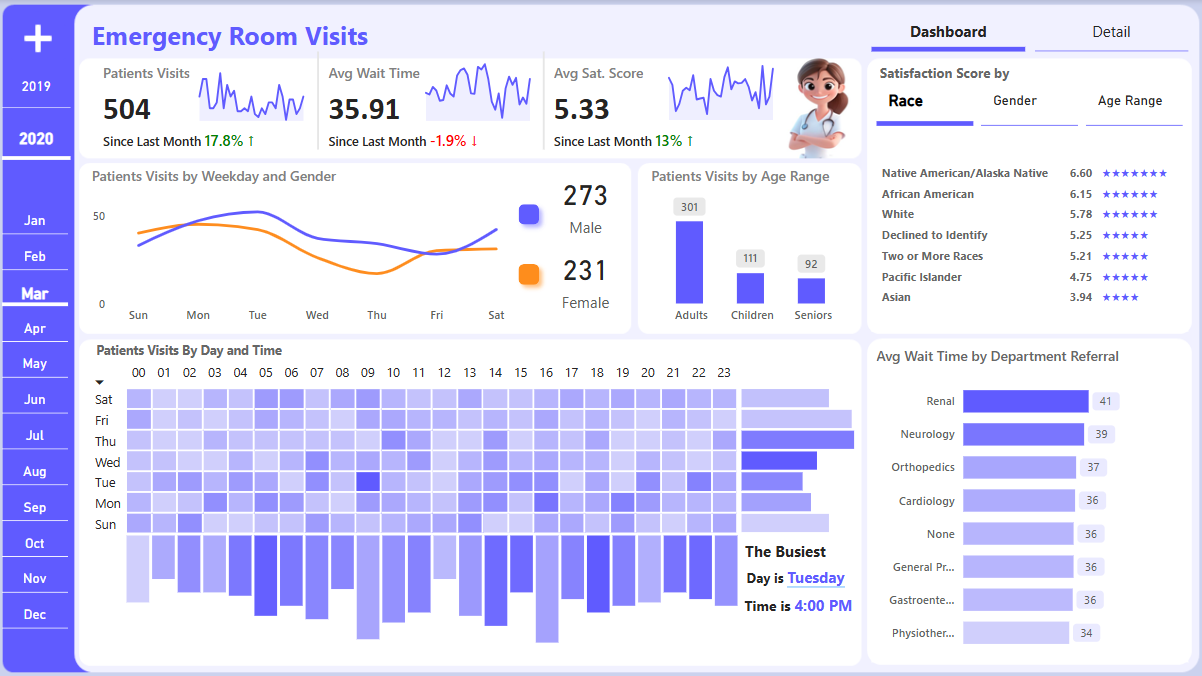

This screenshot's page, from the dashboard's own definition file:
{"tool":"powerbi","page":{"name":"Dashboard","canvas":[1280,720],"ordinal":0},"visuals":[{"type":"advancedSlicerVisual","fields":{"Values":["Calendar.Year"]},"box":[0,64,83,112],"z":0},{"type":"advancedSlicerVisual","fields":{"Values":["Calendar.Month"]},"box":[0,208,80,464],"z":1000},{"type":"cardVisual","fields":{"Data":["Measures (2).Patients Visits","Measures (2).Avg Wait Time","Measures (2).Avg Satisfaction Score"]},"box":[96,56,720,112],"z":2000},{"type":"areaChart","fields":{"Y":["Measures (2).Patients Visits"],"Category":["Calendar.Day"]},"box":[195,58,173,77],"z":3000},{"type":"areaChart","fields":{"Category":["Calendar.Day"],"Y":["Measures (2).Avg Wait Time"]},"box":[436,58,173,77],"z":4000},{"type":"areaChart","fields":{"Category":["Calendar.Day"],"Y":["Measures (2).Avg Satisfaction Score"]},"box":[693,58,173,77],"z":5000},{"type":"lineChart","fields":{"Y":["Measures (2).Patients Visits"],"Category":["Calendar.Weekday"],"Series":["Hospital ER.Gender"]},"box":[96,176,464,176],"z":6000},{"type":"card","fields":{"Values":["Measures (2).Patients Visits"]},"box":[576,176,96,80],"z":7000},{"type":"card","fields":{"Values":["Measures (2).Patients Visits"]},"box":[576,256,96,80],"z":8000},{"type":"shape","box":[544,208,40,40],"z":9000},{"type":"shape","box":[544,272,40,40],"z":10000},{"type":"clusteredColumnChart","title":"Patients Visits by Age Range","fields":{"Y":["Measures (2).Patients Visits"],"Category":["Hospital ER.Age Range"]},"box":[688,176,224,176],"z":11000},{"type":"tableEx","fields":{"Values":["Hospital ER.Race","Measures (2).Avg Satisfaction Score","Measures (2).Score Ratings"]},"box":[928,144,336,208],"z":12000},{"type":"advancedSlicerVisual","fields":{"Values":["Sat_Param.Sat_Param"]},"box":[928,80,336,64],"z":13000},{"type":"textbox","box":[100,358,224,32],"z":14000},{"type":"textbox","box":[928,64,160,32],"z":15000},{"type":"clusteredBarChart","fields":{"Y":["Measures (2).Avg Wait Time"],"Category":["Hospital ER.Department Referral"]},"box":[928,368,336,336],"z":15001},{"type":"pivotTable","fields":{"Rows":["Calendar.Weekday"],"Columns":["Hospital ER.Hour"],"Values":["Measures (2).Patients Visits"]},"box":[94,382,704,192],"z":15002},{"type":"clusteredBarChart","fields":{"Category":["Calendar.Weekday"],"Y":["Measures (2).Patients Visits"]},"box":[784,406,137,160],"z":15003},{"type":"clusteredColumnChart","fields":{"Category":["Hospital ER.Hour"],"Y":["Measures (2).Patients Visits"]},"box":[132,560,658,152],"z":15004},{"type":"textbox","box":[783,569,107,32],"z":15007},{"type":"textbox","box":[776,596,141,36],"z":15008},{"type":"textbox","box":[788,627,133,45],"z":15009},{"type":"image","box":[3,0,80,80],"z":15010},{"type":"textbox","box":[96,14,319,48],"z":15011},{"type":"pageNavigator","box":[928,13,336,43],"z":15012}]}

Visuals, with their boxes in screenshot pixels (x1, y1, x2, y2), scaled from the page's 1280x720 canvas onto the 1202x676 screenshot:
advancedSlicerVisual - Calendar.Year: box=[0, 60, 78, 165]
advancedSlicerVisual - Calendar.Month: box=[0, 195, 75, 631]
cardVisual - Measures (2).Patients Visits x Measures (2).Avg Wait Time: box=[90, 53, 766, 158]
areaChart - Measures (2).Patients Visits x Calendar.Day: box=[183, 54, 346, 127]
areaChart - Calendar.Day x Measures (2).Avg Wait Time: box=[409, 54, 572, 127]
areaChart - Calendar.Day x Measures (2).Avg Satisfaction Score: box=[651, 54, 813, 127]
lineChart - Measures (2).Patients Visits x Calendar.Weekday: box=[90, 165, 526, 330]
card - Measures (2).Patients Visits: box=[541, 165, 631, 240]
card - Measures (2).Patients Visits: box=[541, 240, 631, 315]
shape: box=[511, 195, 548, 233]
shape: box=[511, 255, 548, 293]
"Patients Visits by Age Range" clusteredColumnChart: box=[646, 165, 856, 330]
tableEx - Hospital ER.Race x Measures (2).Avg Satisfaction Score: box=[871, 135, 1187, 330]
advancedSlicerVisual - Sat_Param.Sat_Param: box=[871, 75, 1187, 135]
textbox: box=[94, 336, 304, 366]
textbox: box=[871, 60, 1022, 90]
clusteredBarChart - Measures (2).Avg Wait Time x Hospital ER.Department Referral: box=[871, 346, 1187, 661]
pivotTable - Calendar.Weekday x Hospital ER.Hour: box=[88, 359, 749, 539]
clusteredBarChart - Calendar.Weekday x Measures (2).Patients Visits: box=[736, 381, 865, 531]
clusteredColumnChart - Hospital ER.Hour x Measures (2).Patients Visits: box=[124, 526, 742, 668]
textbox: box=[735, 534, 836, 564]
textbox: box=[729, 560, 861, 593]
textbox: box=[740, 589, 865, 631]
image: box=[3, 0, 78, 75]
textbox: box=[90, 13, 390, 58]
pageNavigator: box=[871, 12, 1187, 53]
